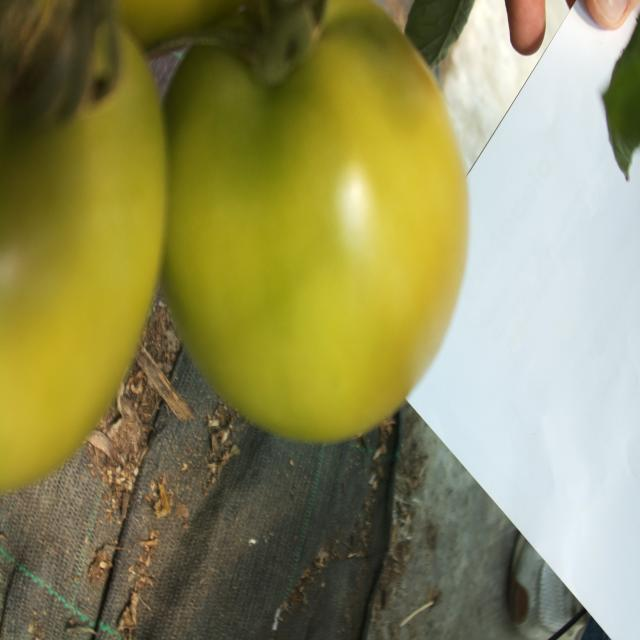yesil: (159, 0, 486, 451)
